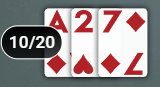2: (71, 8, 97, 36)
7: (99, 7, 125, 37)
a: (44, 8, 70, 36)
